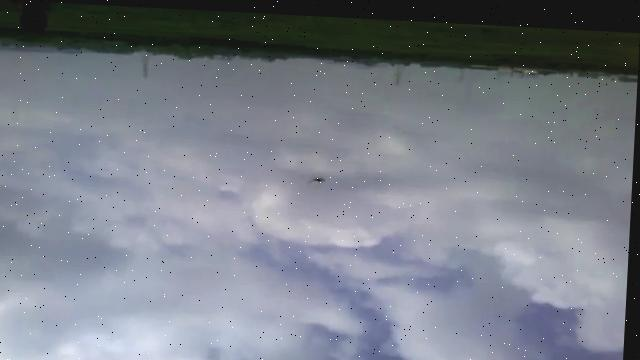drone: (310, 173, 329, 185)
